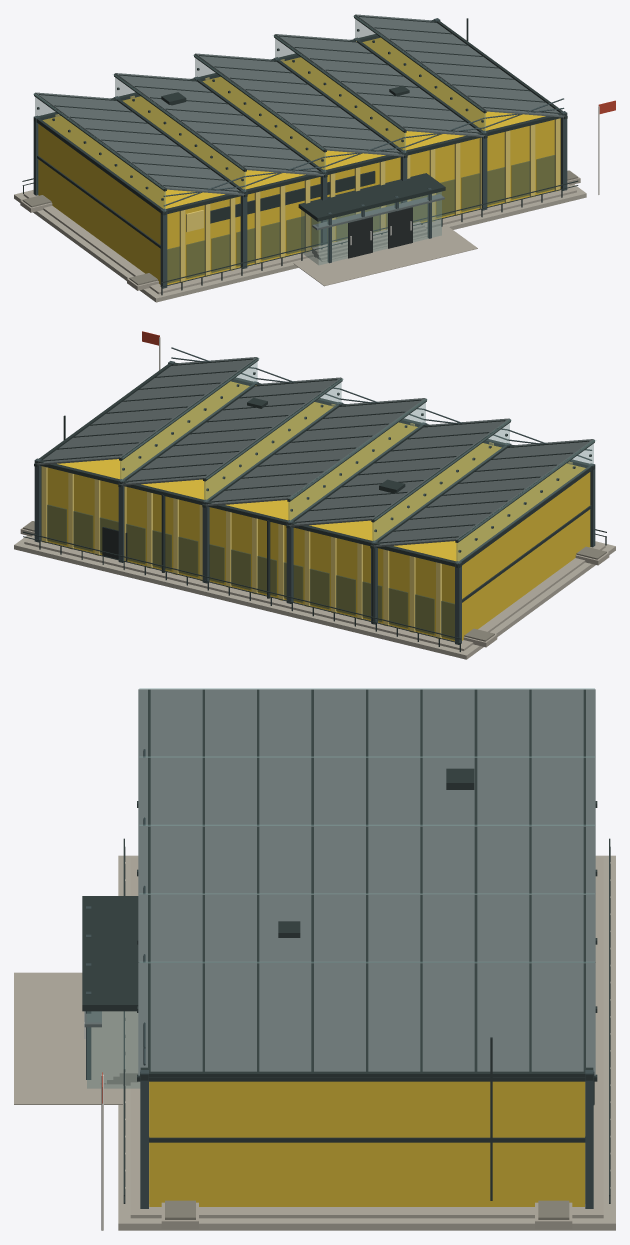
3 views of the same model, one above another, from view 1: azimuth 30°, elevation 25°; view 2: azimuth 150°, elevation 25°; view 3: azimuth 270°, elevation 25° (orthographic). The views are drawn at different scales.
Bounding box in the file's own units: 3.58 × 0.7918 × 2.31.
